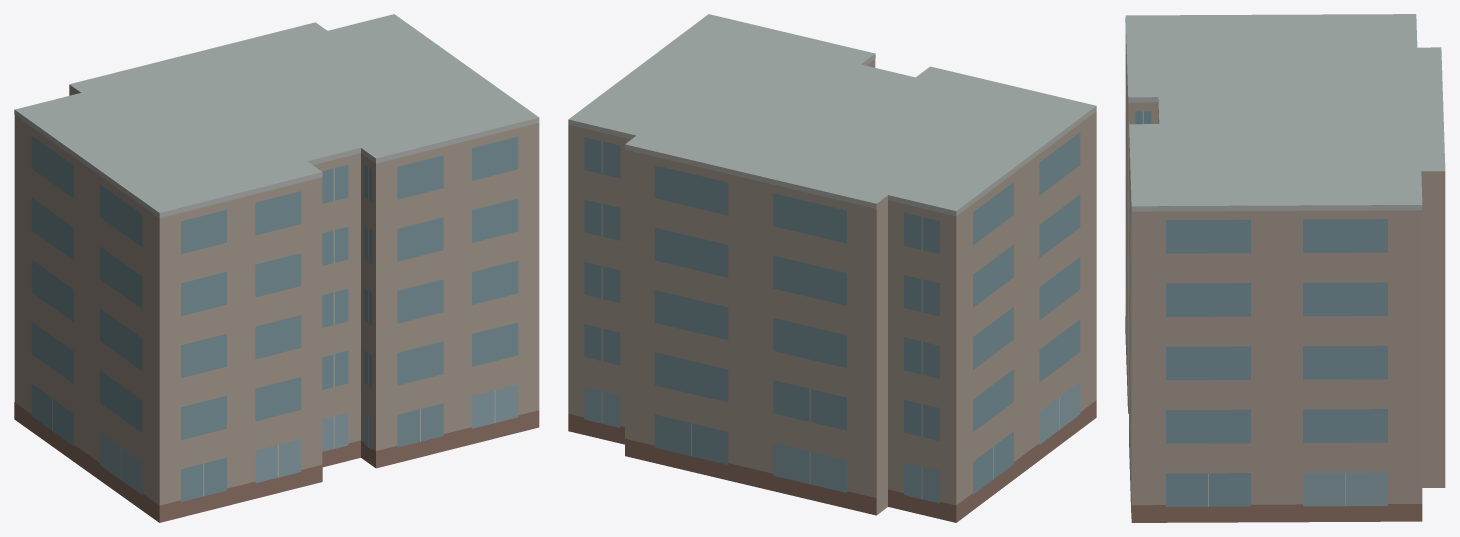
Rendered from survey-upis-32586086.glb.
3 renders of one model, left to right at view 1: azimuth 30°, elevation 25°; view 2: azimuth 150°, elevation 25°; view 3: azimuth 270°, elevation 25°, orthographic. The views are drawn at different scales.
Visible parts, largest first — view 1: survey-upis-32586086.tmp; view 2: survey-upis-32586086.tmp; view 3: survey-upis-32586086.tmp.
Boxes of the visible parts, box(x1,y1,x2,y2) form: survey-upis-32586086.tmp: box(14, 14, 539, 522); survey-upis-32586086.tmp: box(568, 14, 1096, 522); survey-upis-32586086.tmp: box(1125, 14, 1445, 522).
Size of the model in its own units: 18.89 by 14.5 by 13.29.
